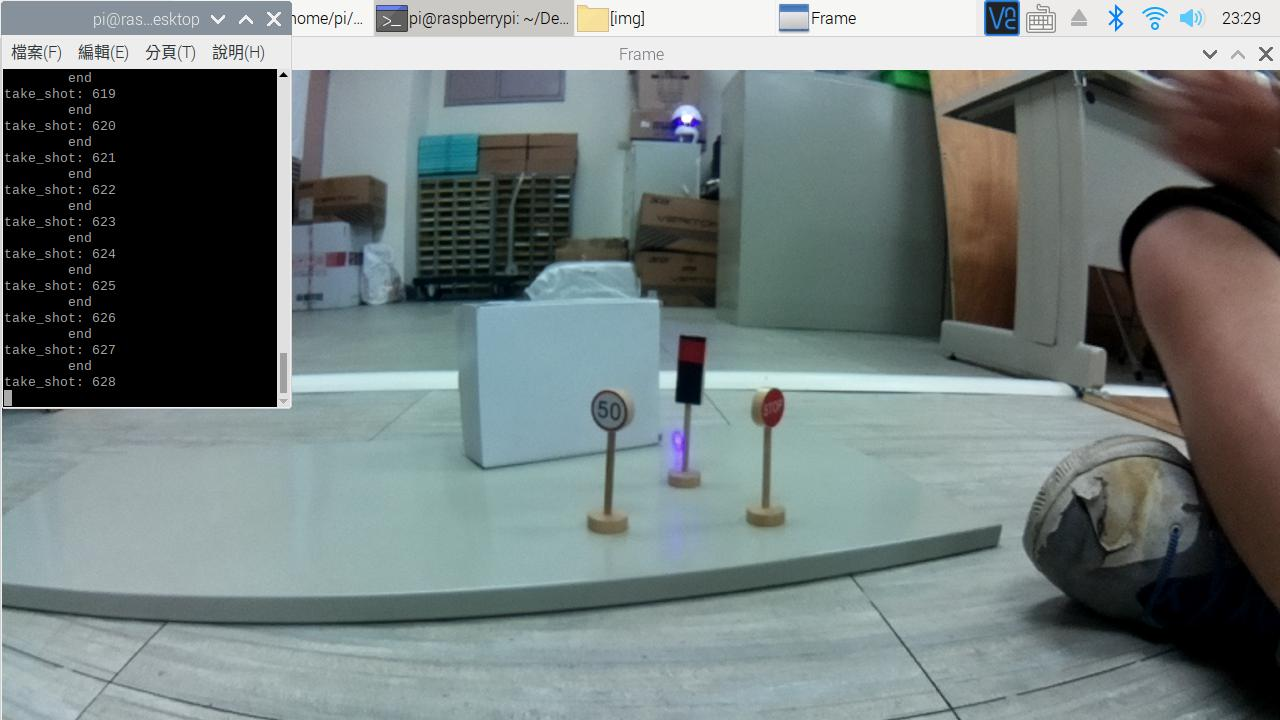Red: (670, 321, 713, 414)
Speed50: (579, 383, 643, 449)
Stop: (739, 378, 791, 442)
